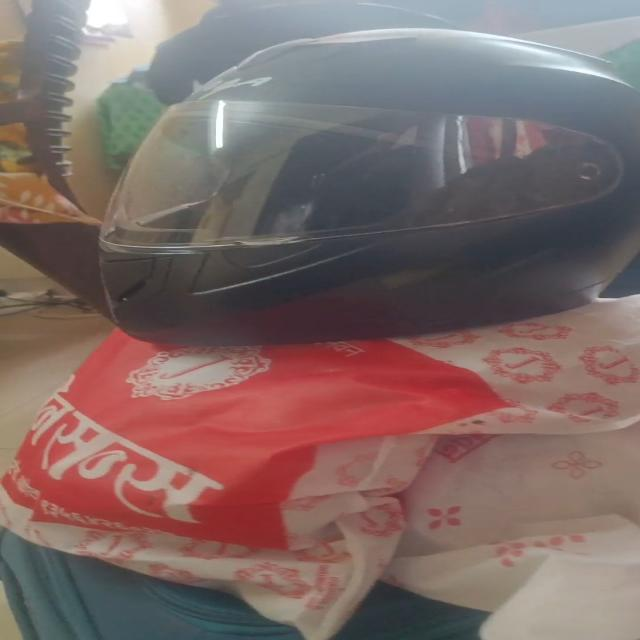Helmet: (96, 27, 640, 344)
